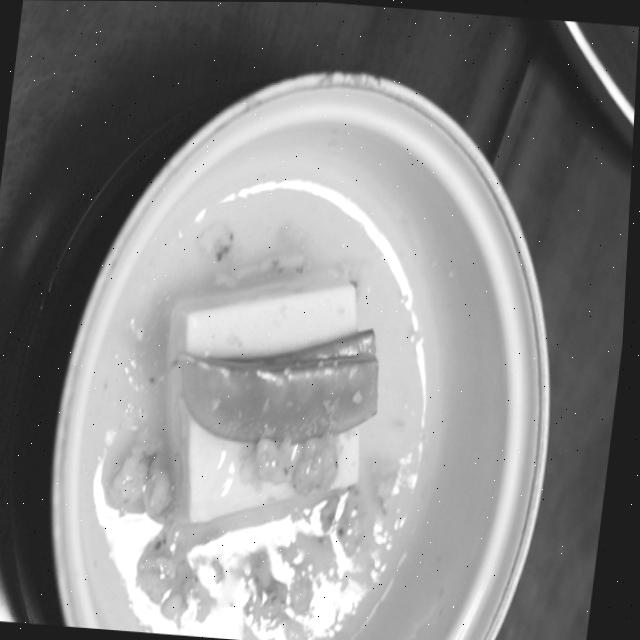豆腐料理: (91, 59, 591, 640)
